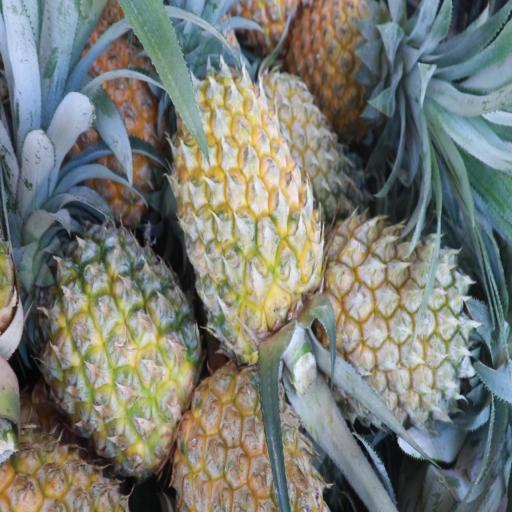------------------------------: (36, 217, 208, 484)
Pineapple - v8 v1: (164, 33, 326, 370), (309, 214, 480, 432), (285, 0, 425, 150)
